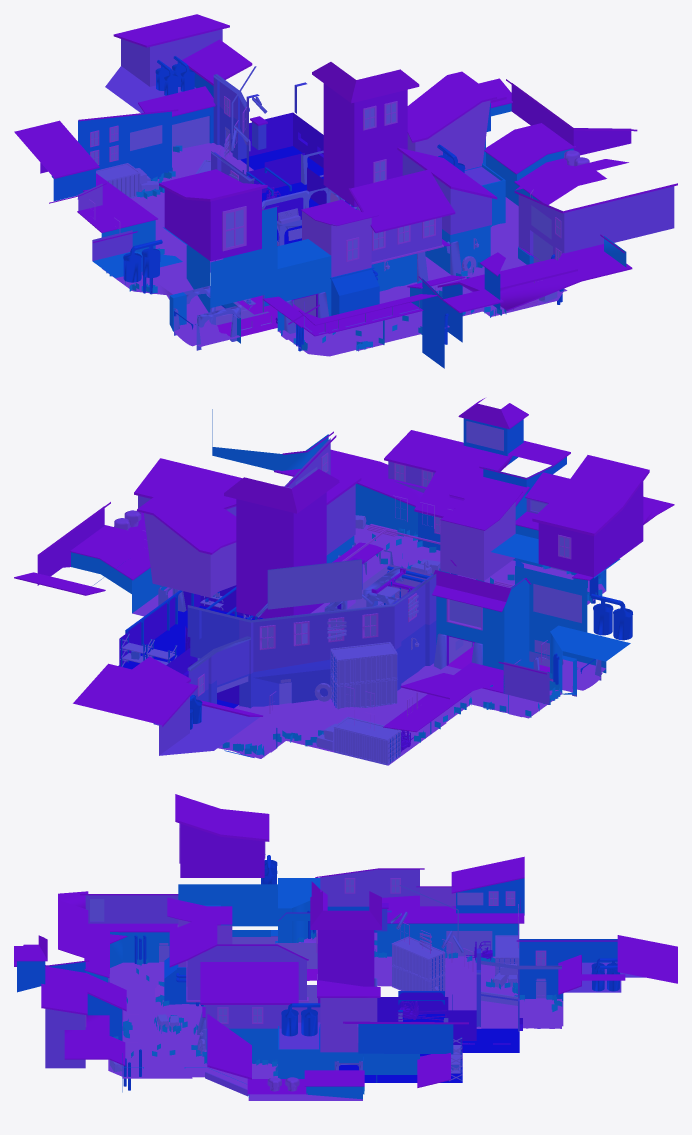
Rendered from factory.gltf.
3 renders of one model, top to bottom at view 1: azimuth 30°, elevation 25°; view 2: azimuth 150°, elevation 25°; view 3: azimuth 270°, elevation 25°, orthographic. The views are drawn at different scales.
Bounding box in the file's own units: 167 × 53.99 × 196.
